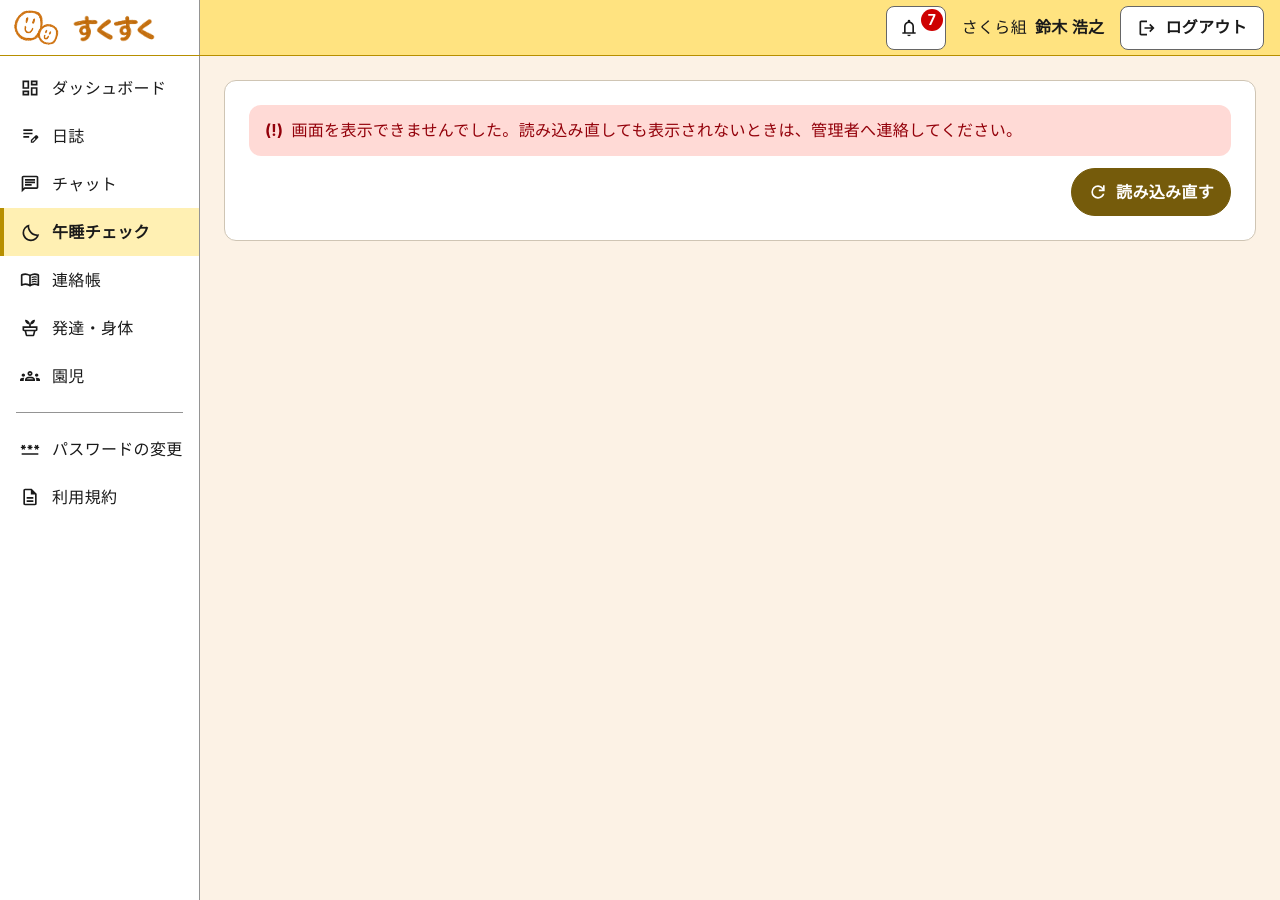
画面の描画に失敗したときの受け皿 › 古いサーバの午睡チェックの応答で例外になっても、メニューを残して知らせを出し、別の画面へ移れる
This screenshot has width=1280, height=900.
expect the text "画面を表示できませんでした。" is shown: met, box top-left (291, 120), bottom-right (1022, 140)
expect the button "読み込み直す" is shown: met, box top-left (1071, 168), bottom-right (1231, 216)
メニューは残っており、別の画面へ移ると受け皿が作り直されて普通に出る
Click the link "ダッシュボード": (93, 88) top-left (20, 78), bottom-right (166, 98)
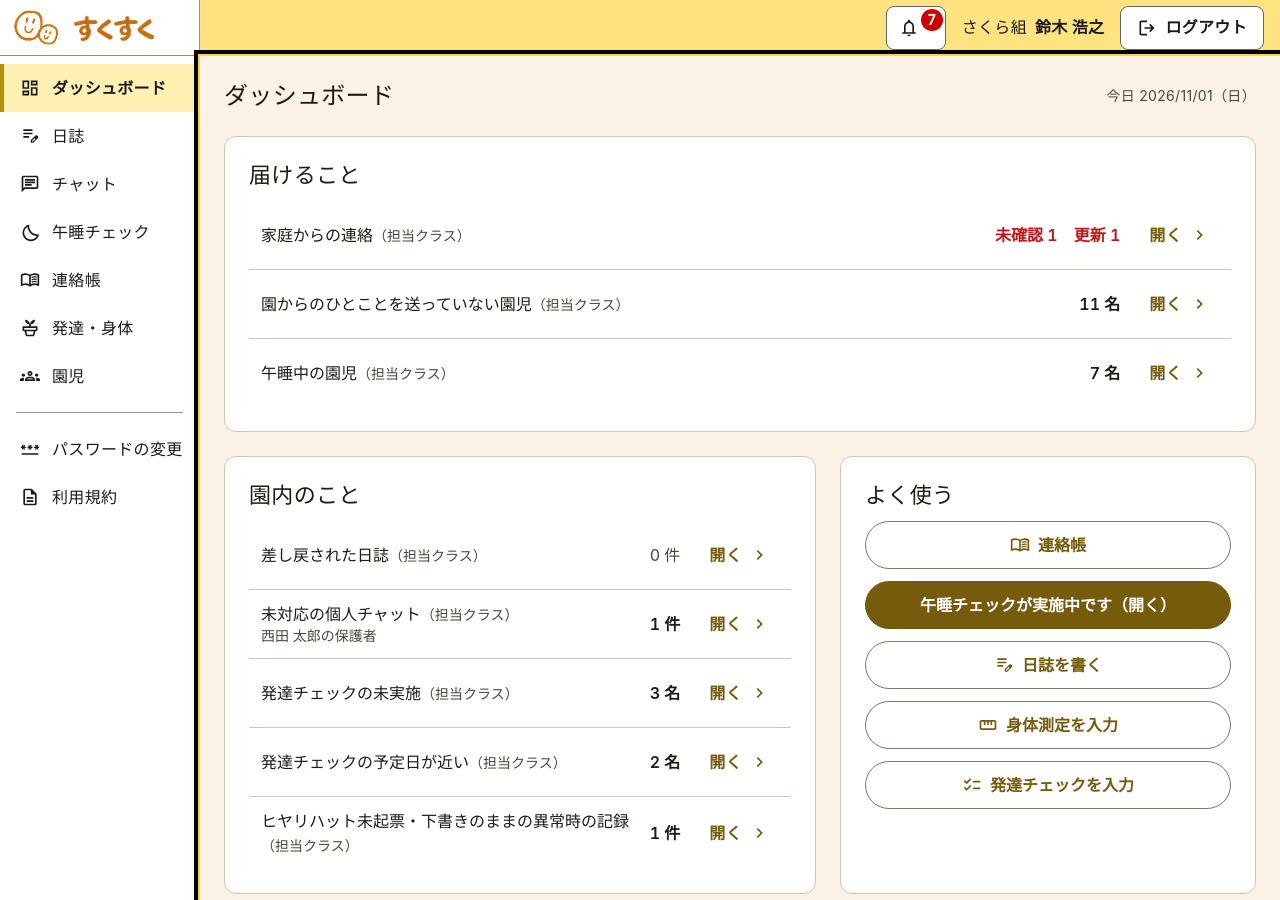
expect the text "午睡チェックが実施中です" is shown: met, box top-left (920, 595), bottom-right (1112, 615)
expect the text "画面を表示できませんでした。" is gone: met
